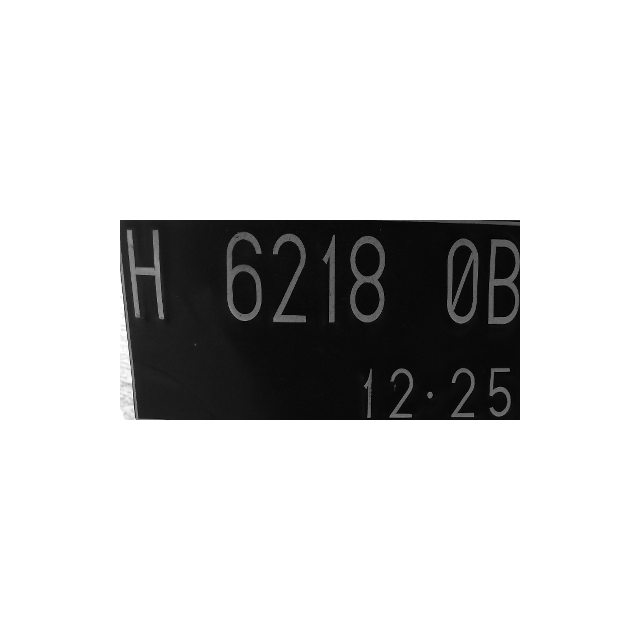contain: (122, 225, 169, 325), (221, 224, 268, 324), (264, 226, 311, 326), (346, 230, 390, 328), (443, 230, 487, 328), (480, 231, 520, 333), (311, 229, 347, 327)
